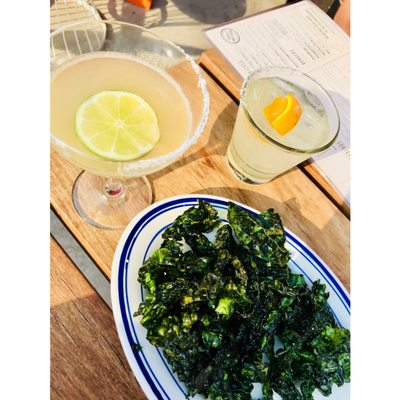curry: (133, 199, 352, 400)
pizza: (226, 67, 342, 185)
sushi: (109, 194, 351, 399), (50, 33, 213, 179)
